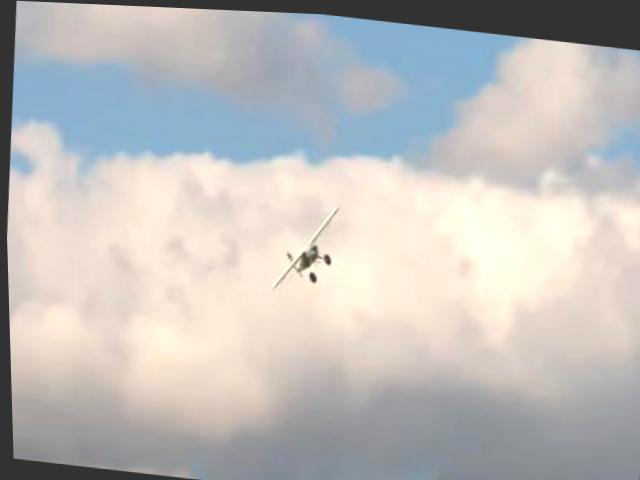uav: (270, 192, 342, 290)
